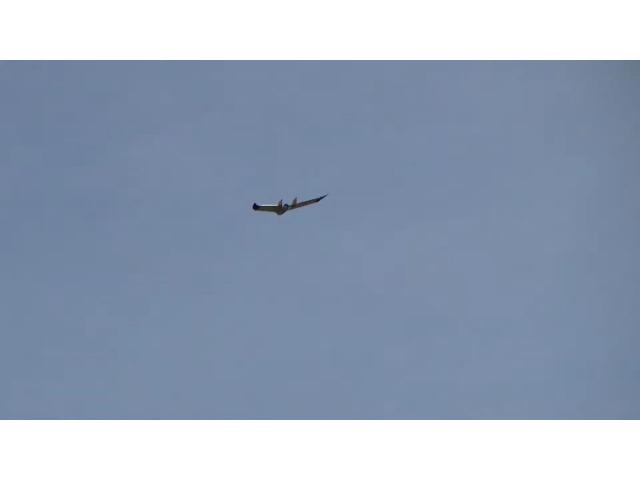Anti-Drone: (252, 194, 328, 216)
